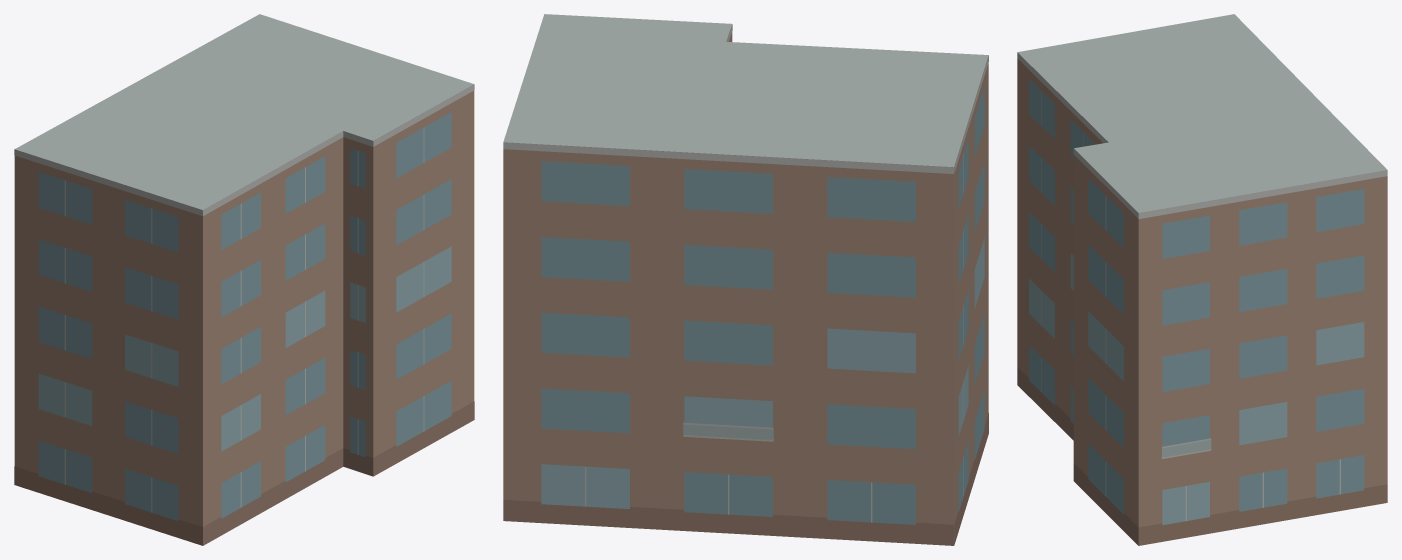
The model's file is survey-upis-32864536.glb.
The picture shows the model from 3 angles, left to right: view 1: azimuth 30°, elevation 25°; view 2: azimuth 150°, elevation 25°; view 3: azimuth 270°, elevation 25°; orthographic projection. The views are drawn at different scales.
Visible parts, largest first — view 1: survey-upis-32864536.tmp; view 2: survey-upis-32864536.tmp; view 3: survey-upis-32864536.tmp.
Part boxes in pixels (left/top/right/bottom): survey-upis-32864536.tmp: left=14, top=14, right=474, bottom=545; survey-upis-32864536.tmp: left=503, top=14, right=988, bottom=545; survey-upis-32864536.tmp: left=1017, top=14, right=1387, bottom=545.
Bounding box in the file's own units: 17.14 × 13.35 × 13.47.
